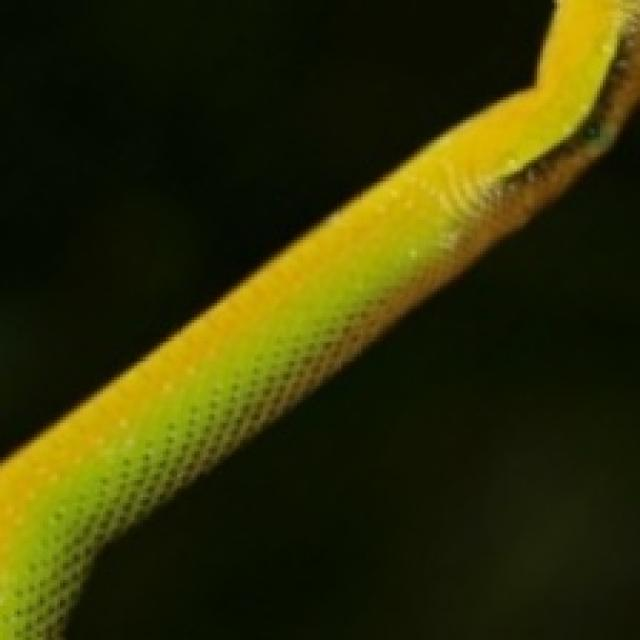red-tailed green ratsnake: (66, 109, 637, 637), (0, 0, 551, 454)
